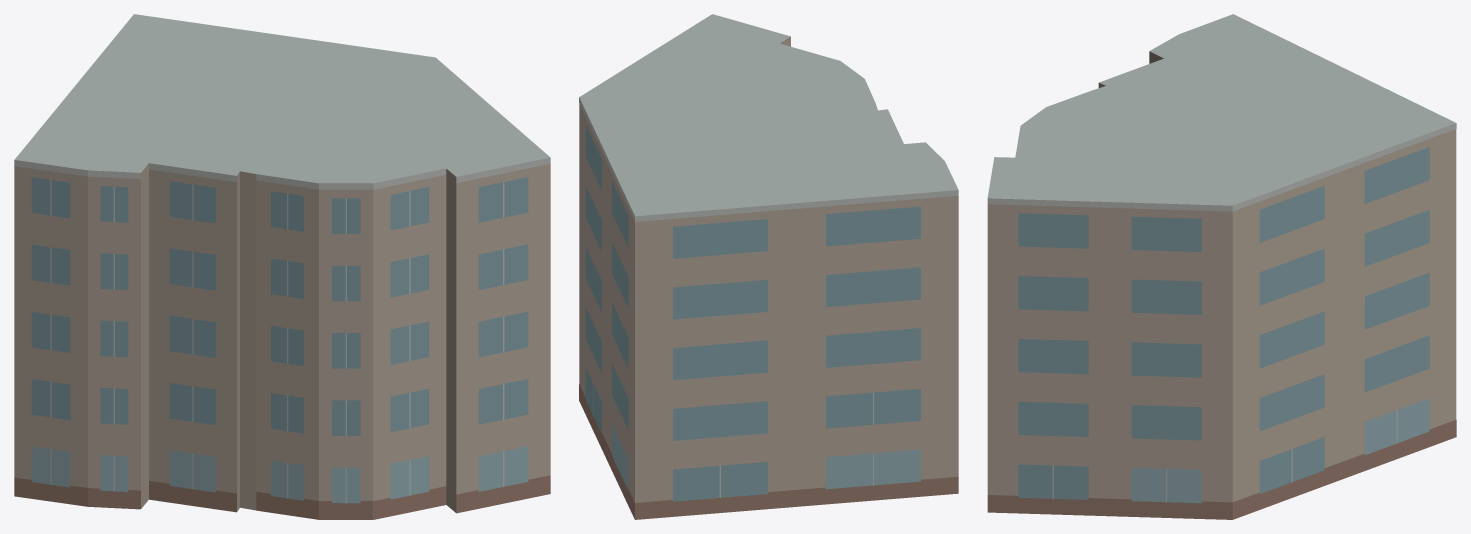
Rendered from survey-upis-32928040.glb.
3 views of the same model, side by side, from view 1: azimuth 30°, elevation 25°; view 2: azimuth 150°, elevation 25°; view 3: azimuth 270°, elevation 25° (orthographic). The views are drawn at different scales.
Parts seen in each view (by area): view 1: survey-upis-32928040.tmp; view 2: survey-upis-32928040.tmp; view 3: survey-upis-32928040.tmp.
Part boxes in pixels (x1,y1,x2,y2): survey-upis-32928040.tmp: [14, 14, 550, 519]; survey-upis-32928040.tmp: [579, 14, 958, 519]; survey-upis-32928040.tmp: [987, 14, 1456, 519].
Size of the model in its own units: 17.16 by 13.1 by 17.74.
